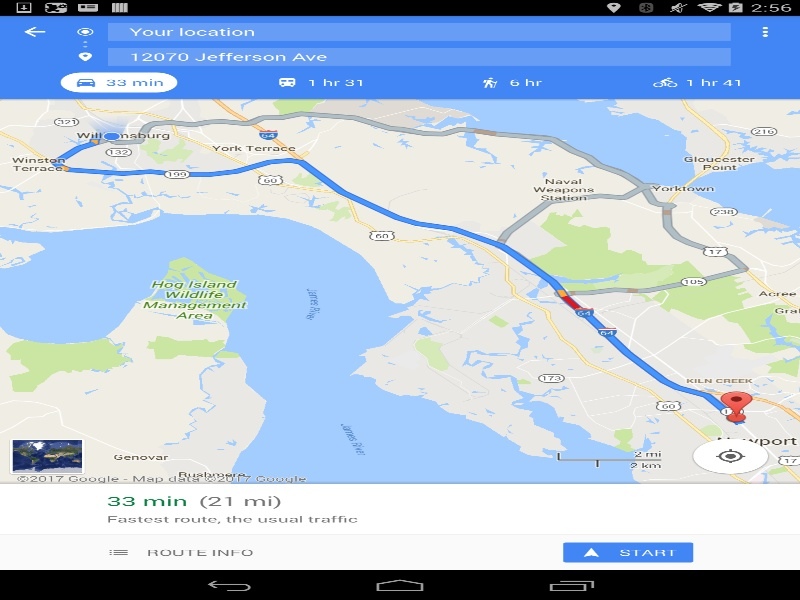Button: (12, 440, 82, 472)
Input: (108, 15, 730, 44), (108, 44, 730, 71)
